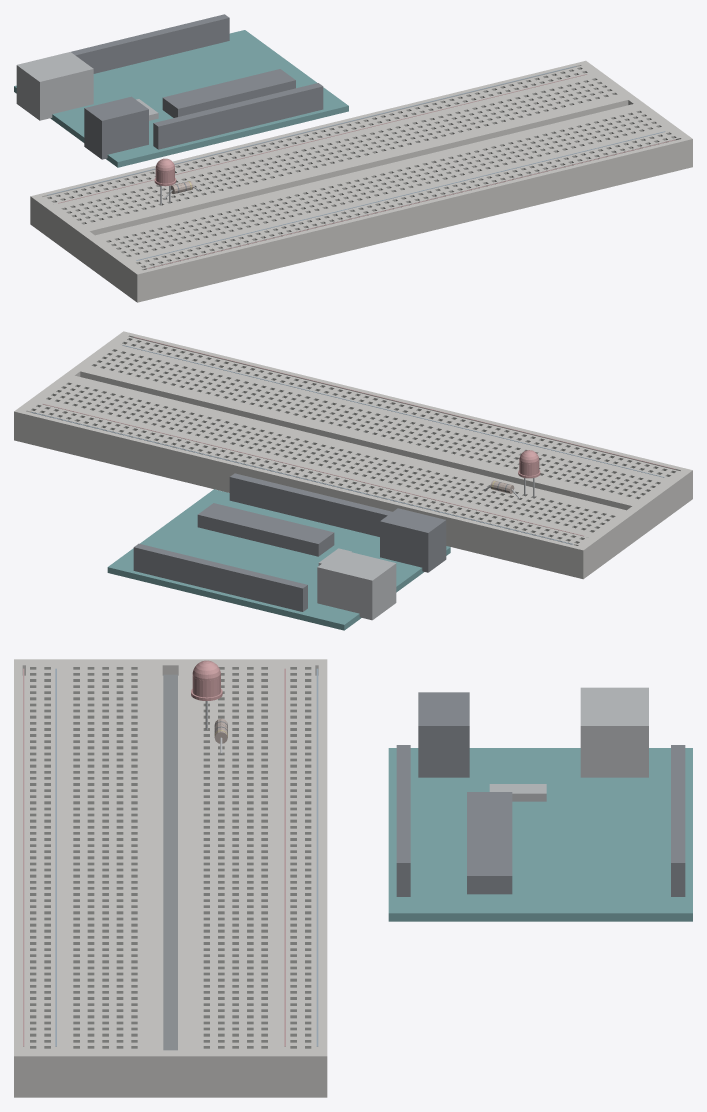
File: step-4.glb
The picture shows the model from 3 angles, top to bottom: view 1: azimuth 30°, elevation 25°; view 2: azimuth 150°, elevation 25°; view 3: azimuth 270°, elevation 25°; orthographic projection. The views are drawn at different scales.
Visible parts, largest first — view 1: breadboard__mesh, uno__mesh, led_red__mesh; view 2: breadboard__mesh, uno__mesh, led_red__mesh; view 3: breadboard__mesh, uno__mesh, led_red__mesh.
Boxes of the visible parts, box(x1,y1,x2,y2) form: breadboard__mesh: box(30, 60, 692, 302); uno__mesh: box(14, 14, 348, 167); led_red__mesh: box(154, 158, 176, 204); breadboard__mesh: box(14, 331, 692, 579); uno__mesh: box(107, 473, 450, 630); led_red__mesh: box(518, 450, 540, 497); breadboard__mesh: box(14, 659, 327, 1097); uno__mesh: box(388, 687, 692, 921); led_red__mesh: box(191, 660, 222, 729).
Bounding box in the file's own units: 0.165 × 0.0205 × 0.1192.
